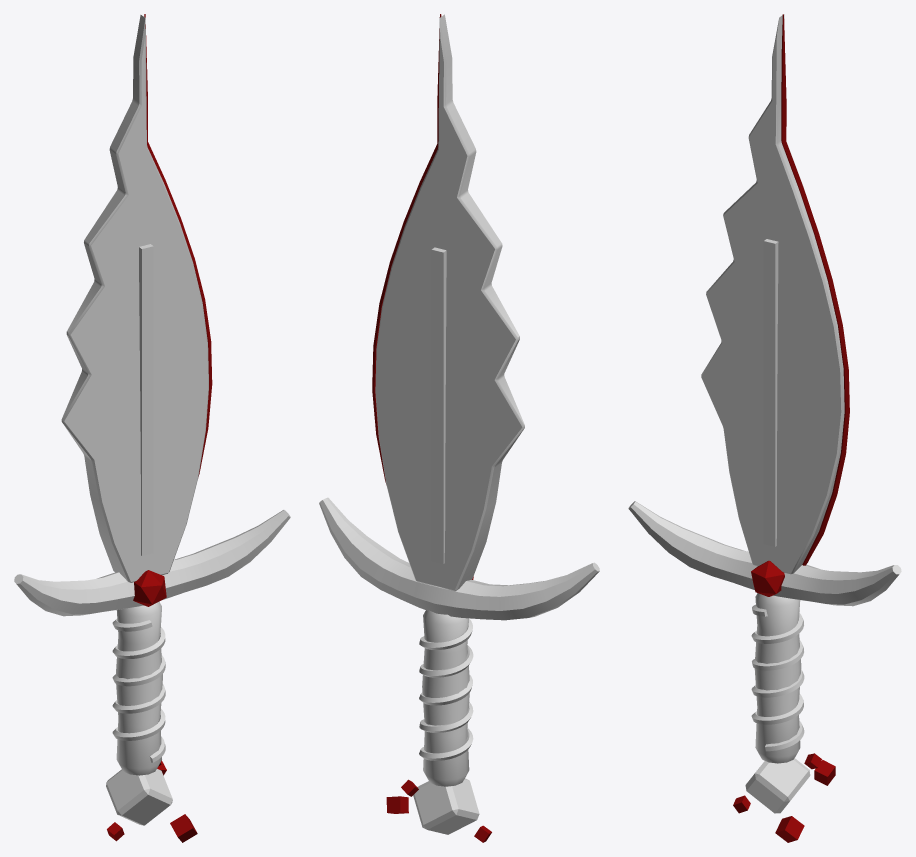
File: daggers_Dagger.fbx
3 views of the same model, side by side, from view 1: azimuth 30°, elevation 25°; view 2: azimuth 150°, elevation 25°; view 3: azimuth 330°, elevation 25° (orthographic). The views are drawn at different scales.
Parts seen in each view (by area): view 1: Dagger; view 2: Dagger; view 3: Dagger.
Boxes of the visible parts, box(x1,y1,x2,y2) form: Dagger: box(14, 14, 290, 842); Dagger: box(319, 14, 599, 842); Dagger: box(628, 14, 901, 842).
Size of the model in its own units: 0.6958 by 1.99 by 0.1976.
